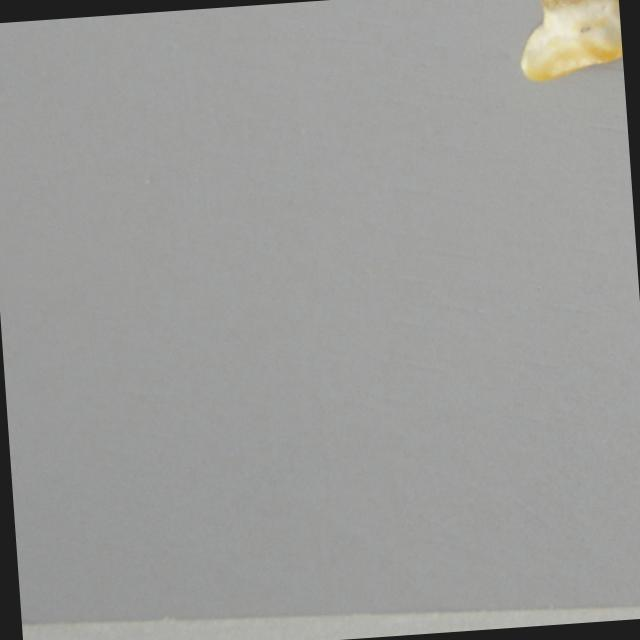punto_negro: (515, 0, 624, 84)
